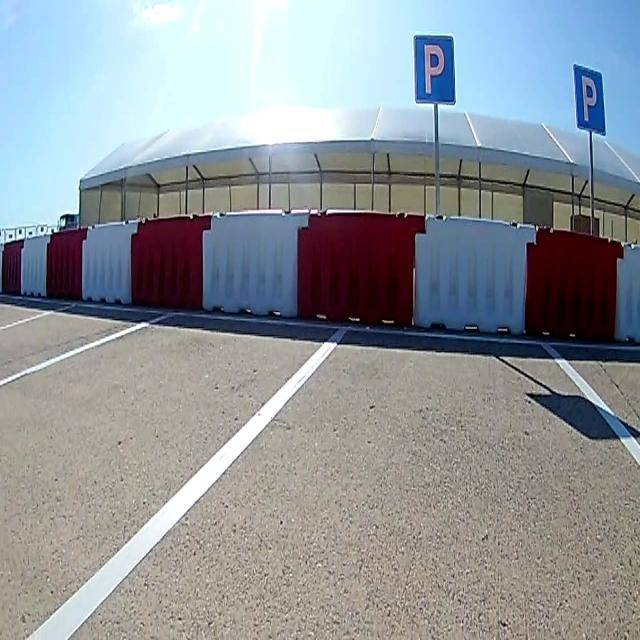park: (414, 36, 456, 101), (574, 65, 606, 132)
